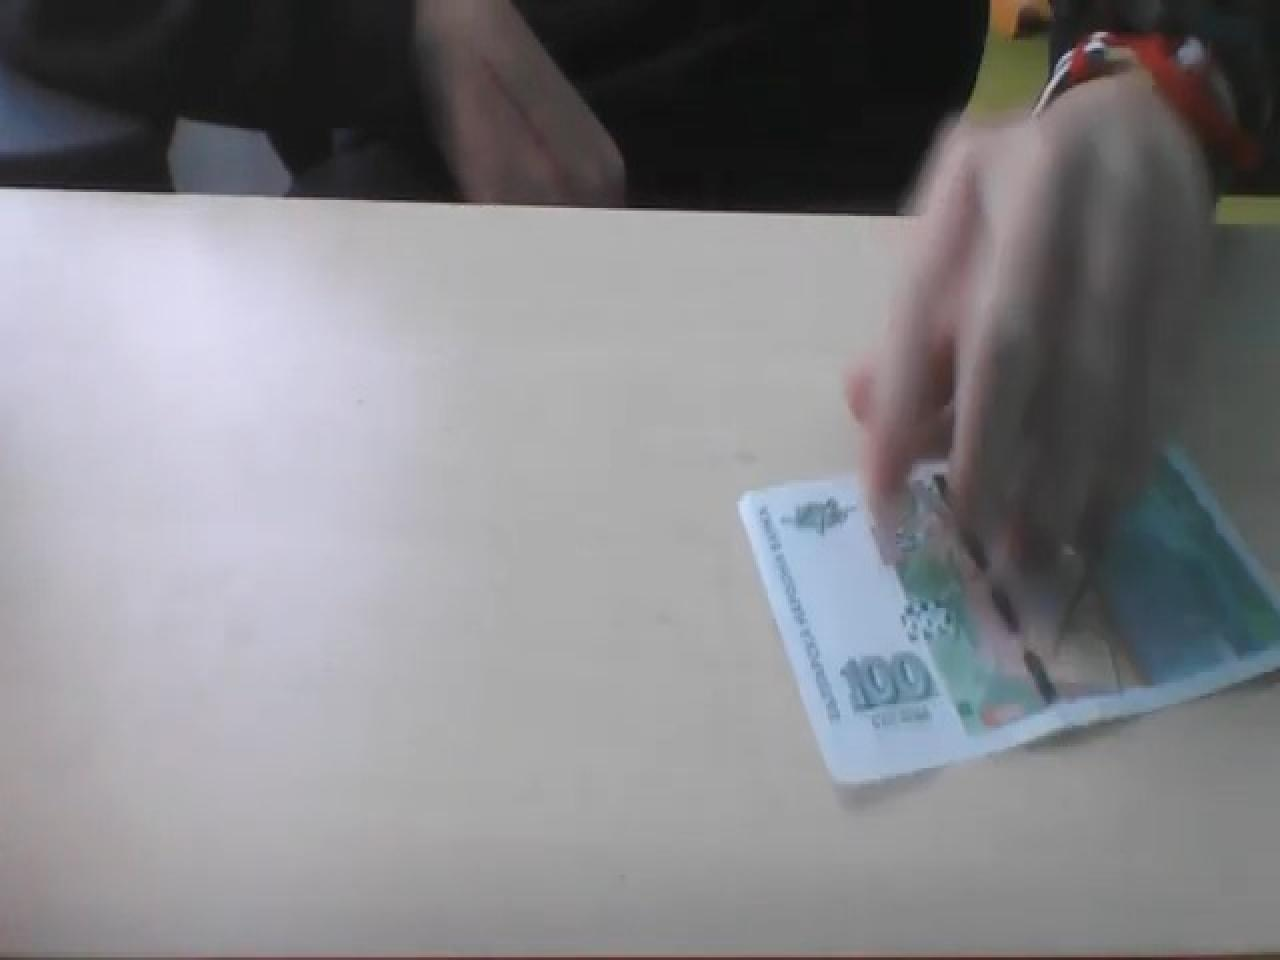100leva: (736, 461, 1280, 806)
